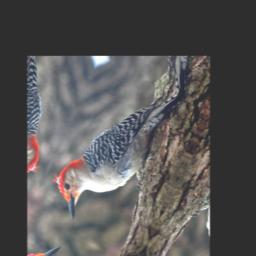Woodpecker: (41, 60, 185, 242)
